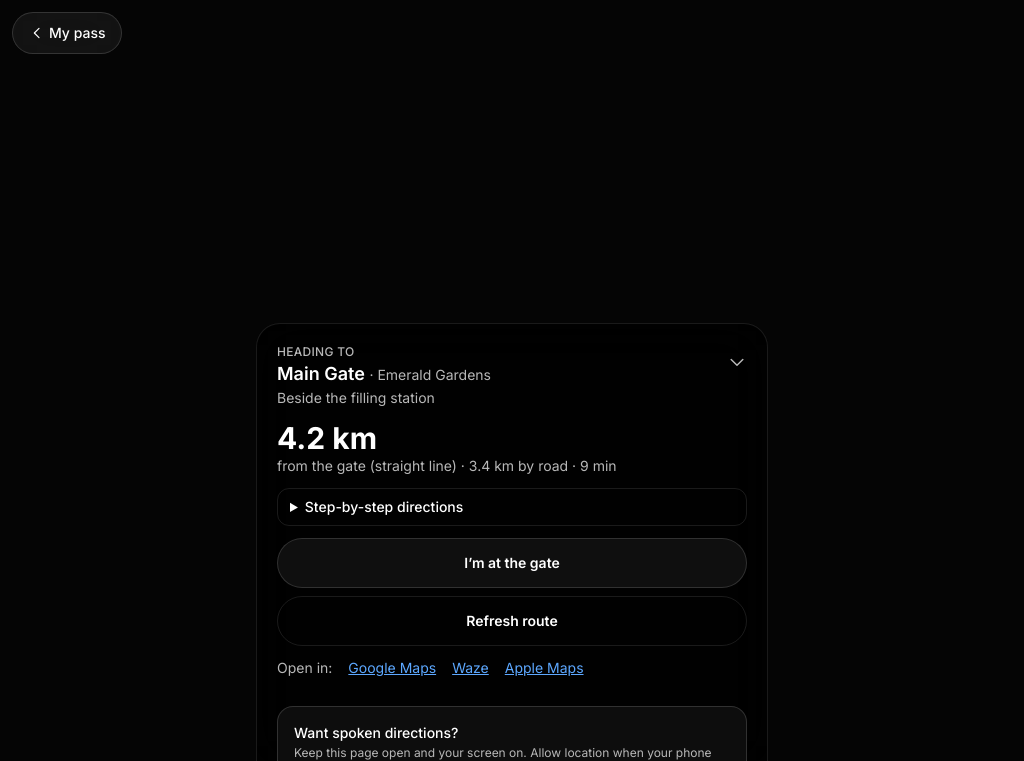
Test: NavigationScreen (full-screen map) › collapsible panel › opens fully again on arrival, even if it was collapsed
Click the button with aria-label "Hide directions panel": (316, 351) [277,344,747,408]
(page scrolled)
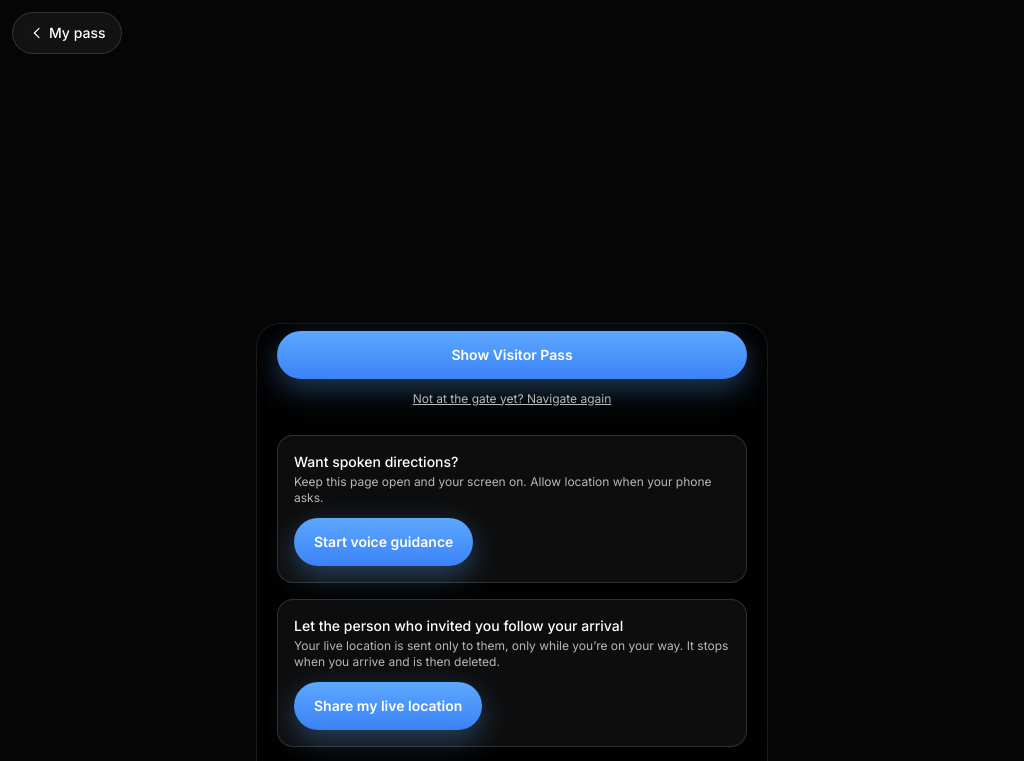
Expected: the link "Show Visitor Pass" is shown, [277,331,747,379]
Expected: the button "Share my live location" is shown, [294,682,482,730]
